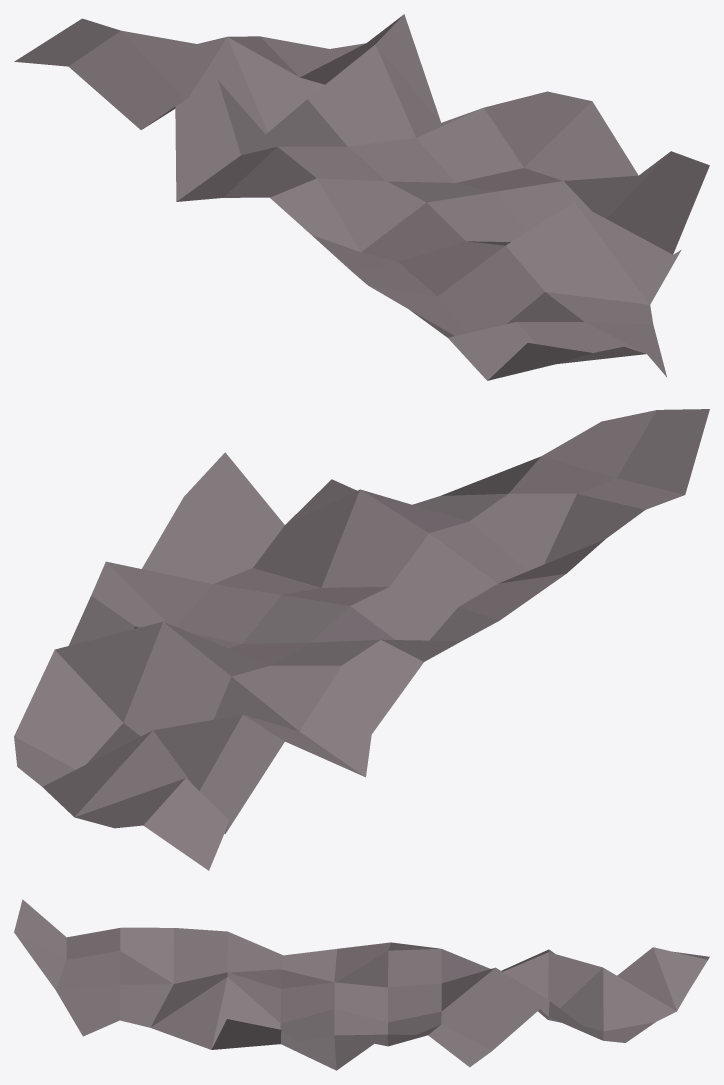
File: Scrap1.fbx
The picture shows the model from 3 angles, top to bottom: view 1: azimuth 30°, elevation 25°; view 2: azimuth 150°, elevation 25°; view 3: azimuth 270°, elevation 25°; orthographic projection. The views are drawn at different scales.
Parts seen in each view (by area): view 1: Bake.007; view 2: Bake.007; view 3: Bake.007.
Part boxes in pixels (x1,y1,x2,y2): Bake.007: (14,14,709,380); Bake.007: (14,409,709,870); Bake.007: (14,899,709,1070).
Size of the model in its own units: 415 by 133 by 1052.
Materials: 2 (1 with a texture image).
